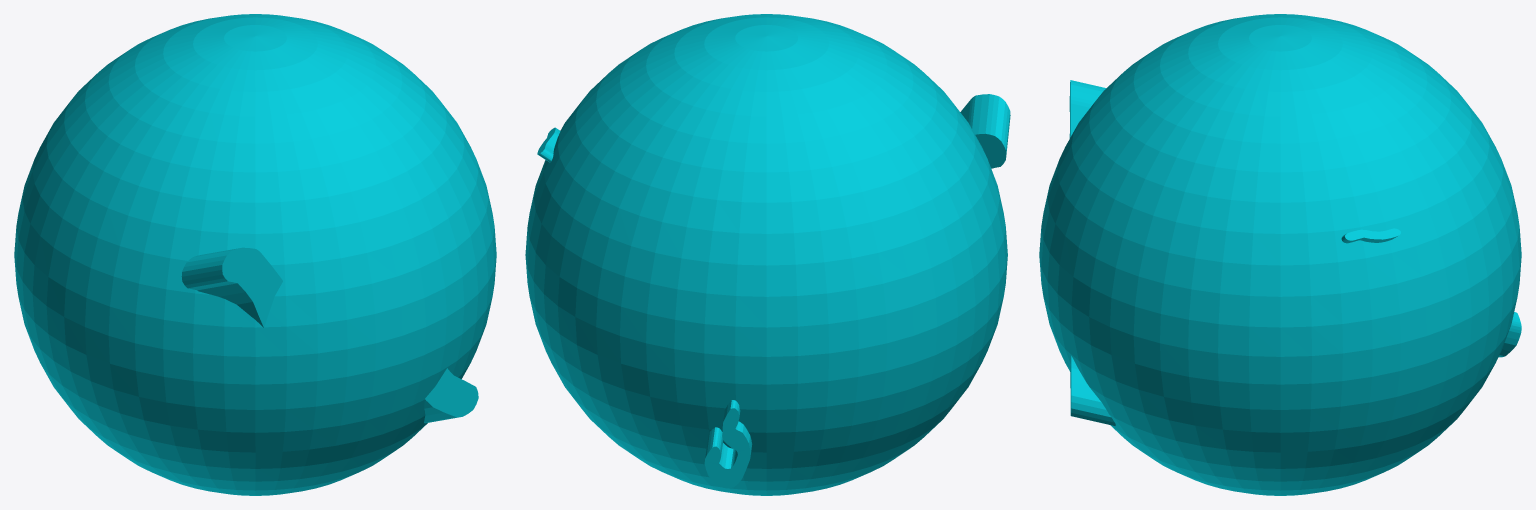
Rendered from Water Bubble.glb.
3 renders of one model, left to right at view 1: azimuth 30°, elevation 25°; view 2: azimuth 150°, elevation 25°; view 3: azimuth 270°, elevation 25°, orthographic.
Parts seen in each view (by area): view 1: Mesh_Mesh_head_geo.001_lambert2SG.001; view 2: Mesh_Mesh_head_geo.001_lambert2SG.001; view 3: Mesh_Mesh_head_geo.001_lambert2SG.001.
Part boxes in pixels (box(x1,y1,x2,y2)): Mesh_Mesh_head_geo.001_lambert2SG.001: box(14, 14, 496, 495); Mesh_Mesh_head_geo.001_lambert2SG.001: box(525, 14, 1010, 495); Mesh_Mesh_head_geo.001_lambert2SG.001: box(1039, 14, 1521, 495).
Bounding box in the file's own units: 25.4 × 25.4 × 25.4.
